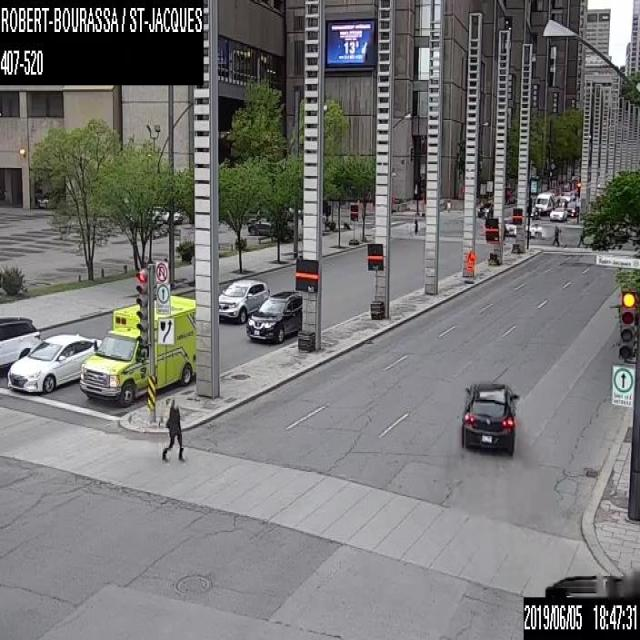construction: (464, 249, 474, 272)
pedestrian: (159, 397, 185, 464), (551, 223, 560, 245), (578, 225, 586, 248)
vehicle: (78, 294, 198, 398), (8, 334, 100, 390), (458, 379, 519, 453), (245, 289, 302, 343), (0, 313, 39, 375), (220, 278, 266, 326), (534, 191, 555, 214), (548, 205, 567, 221), (476, 201, 493, 218), (565, 200, 577, 216)
